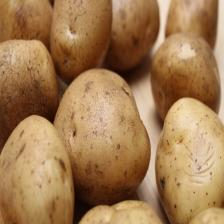Potato: (56, 65, 152, 207)
